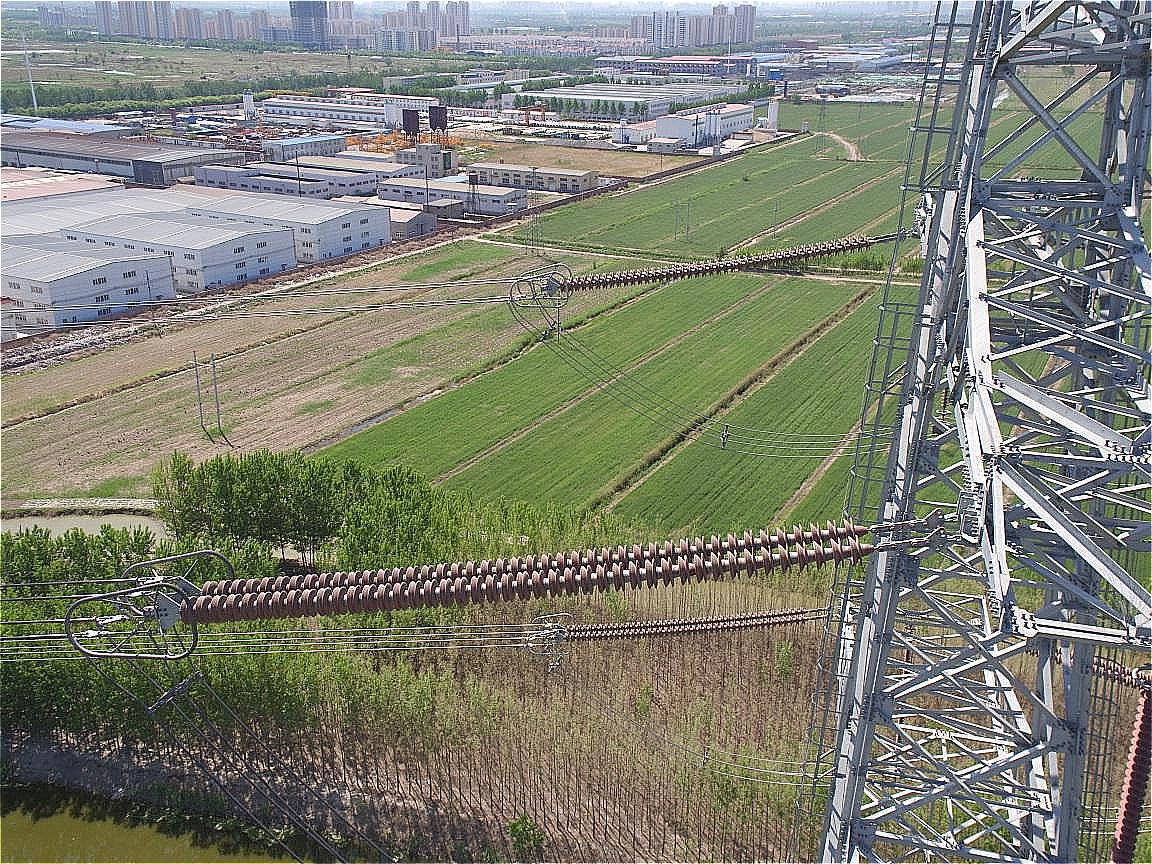insultor2: (167, 513, 868, 635), (535, 222, 873, 298)
